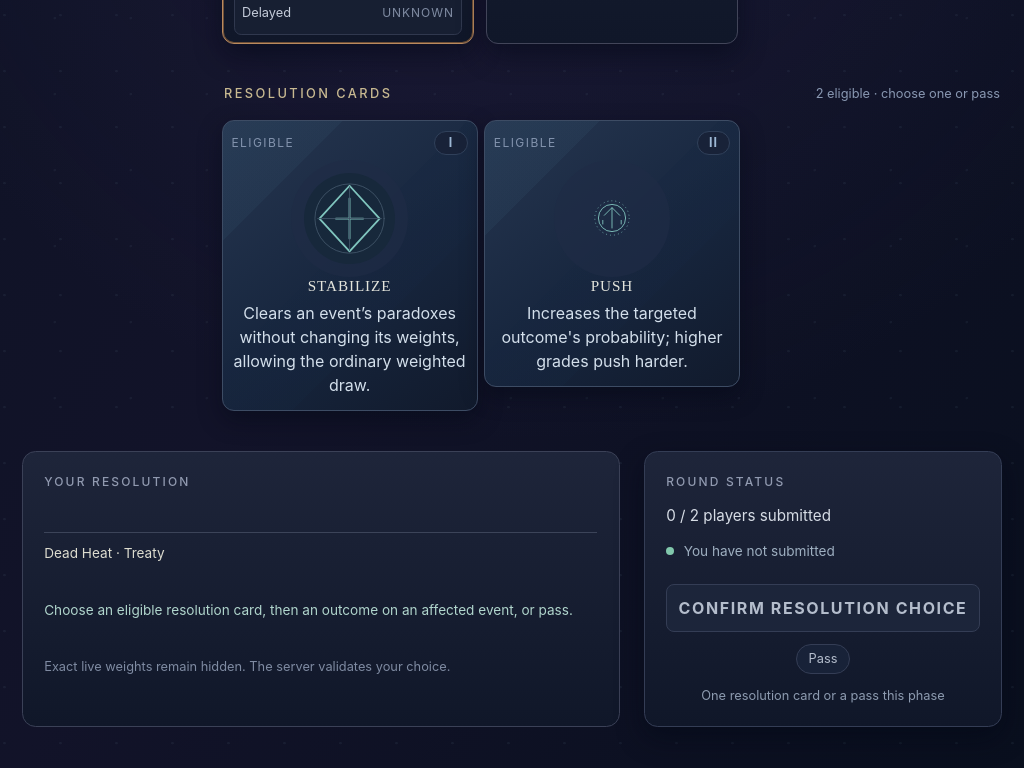
resolving a paradox on the board › shows a pass rejected because a choice was already submitted
(page scrolled)
Click the button "Pass" at (823, 659), box [796, 644, 850, 674]
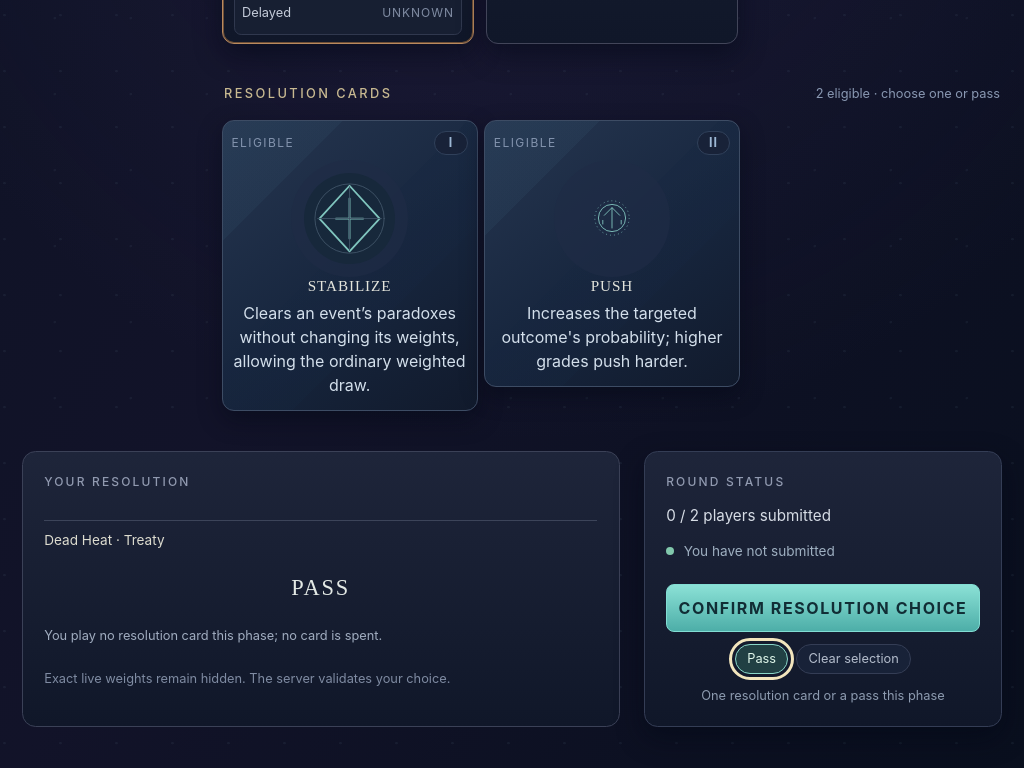
Click the button "Confirm resolution choice" at (823, 608), box [666, 584, 980, 632]
(page scrolled)
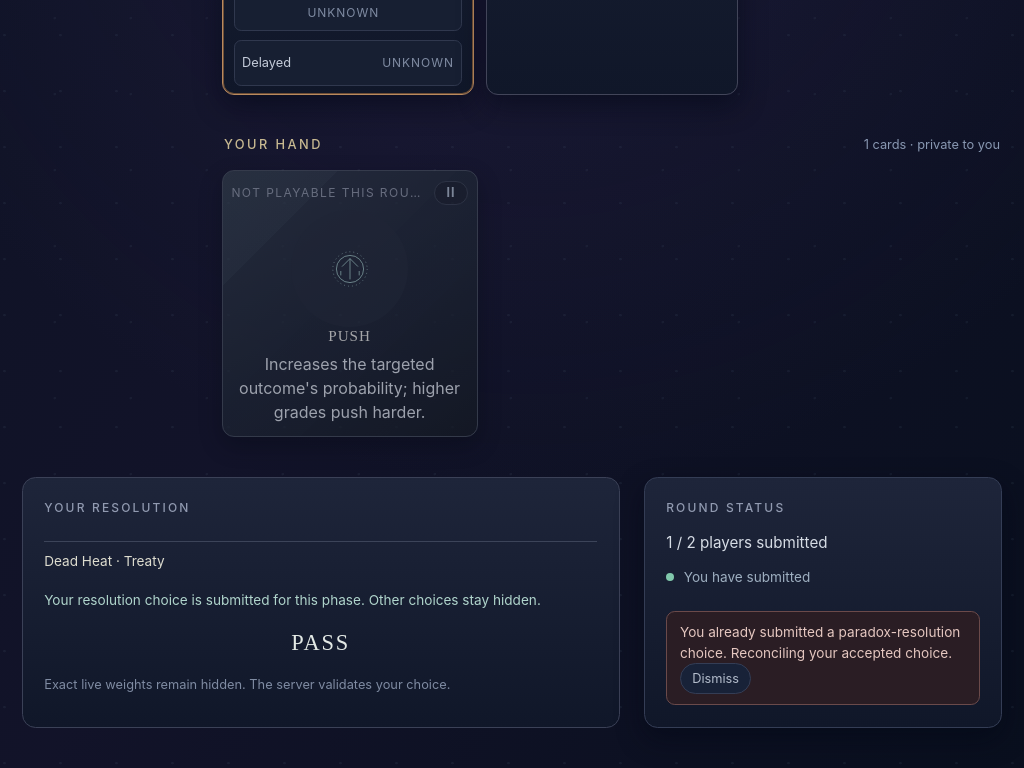
Now the message shows "already submitted a paradox-resolution choice", box [680, 624, 960, 660]
Now the text "Your resolution choice is submitted for this phase." is shown, box [44, 592, 541, 608]
